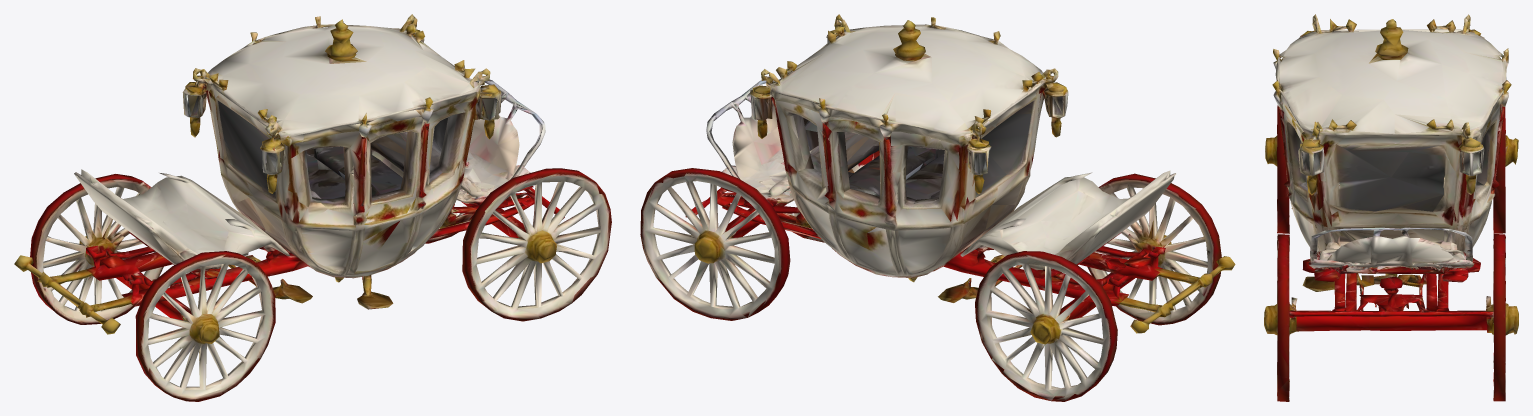
The model's file is Royal_Carriage.glb.
3 renders of one model, left to right at view 1: azimuth 30°, elevation 25°; view 2: azimuth 150°, elevation 25°; view 3: azimuth 270°, elevation 25°, orthographic. The views are drawn at different scales.
Visible parts, largest first — view 1: Royal_Carriage; view 2: Royal_Carriage; view 3: Royal_Carriage.
Part boxes in pixels (x1,y1,x2,y2): Royal_Carriage: (14, 14, 611, 401); Royal_Carriage: (640, 14, 1235, 401); Royal_Carriage: (1264, 14, 1518, 401).
Size of the model in its own units: 1.91 by 1.07 by 0.8165.
1 material, 1 textured.
